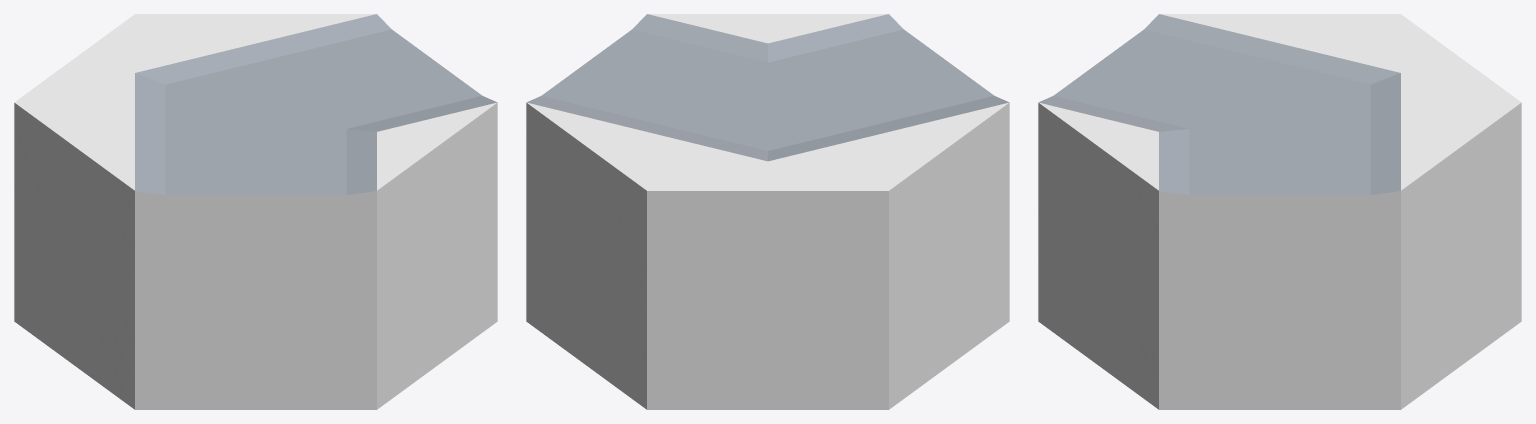
The model's file is snow_road2.fbx.
3 views of the same model, side by side, from view 1: azimuth 30°, elevation 25°; view 2: azimuth 150°, elevation 25°; view 3: azimuth 270°, elevation 25° (orthographic).
Visible parts, largest first — view 1: Cylinder; view 2: Cylinder; view 3: Cylinder.
Part boxes in pixels (x1=…): Cylinder: x1=14, y1=14, x2=497, y2=409; Cylinder: x1=526, y1=14, x2=1009, y2=409; Cylinder: x1=1038, y1=14, x2=1521, y2=409.
Bounding box in the file's own units: 1.73 × 1 × 2.
